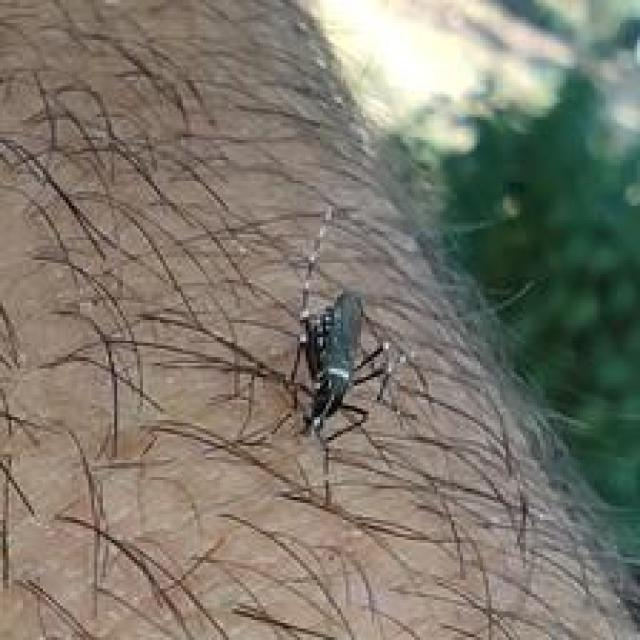Aedes albopictus: (282, 203, 424, 448)
